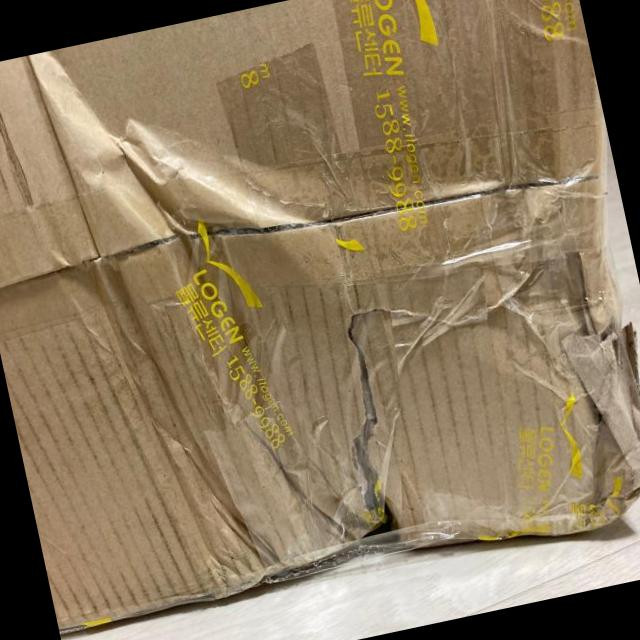box: (0, 0, 640, 638)
crushed: (125, 302, 279, 585), (75, 126, 299, 255)
opened: (321, 294, 414, 550)
